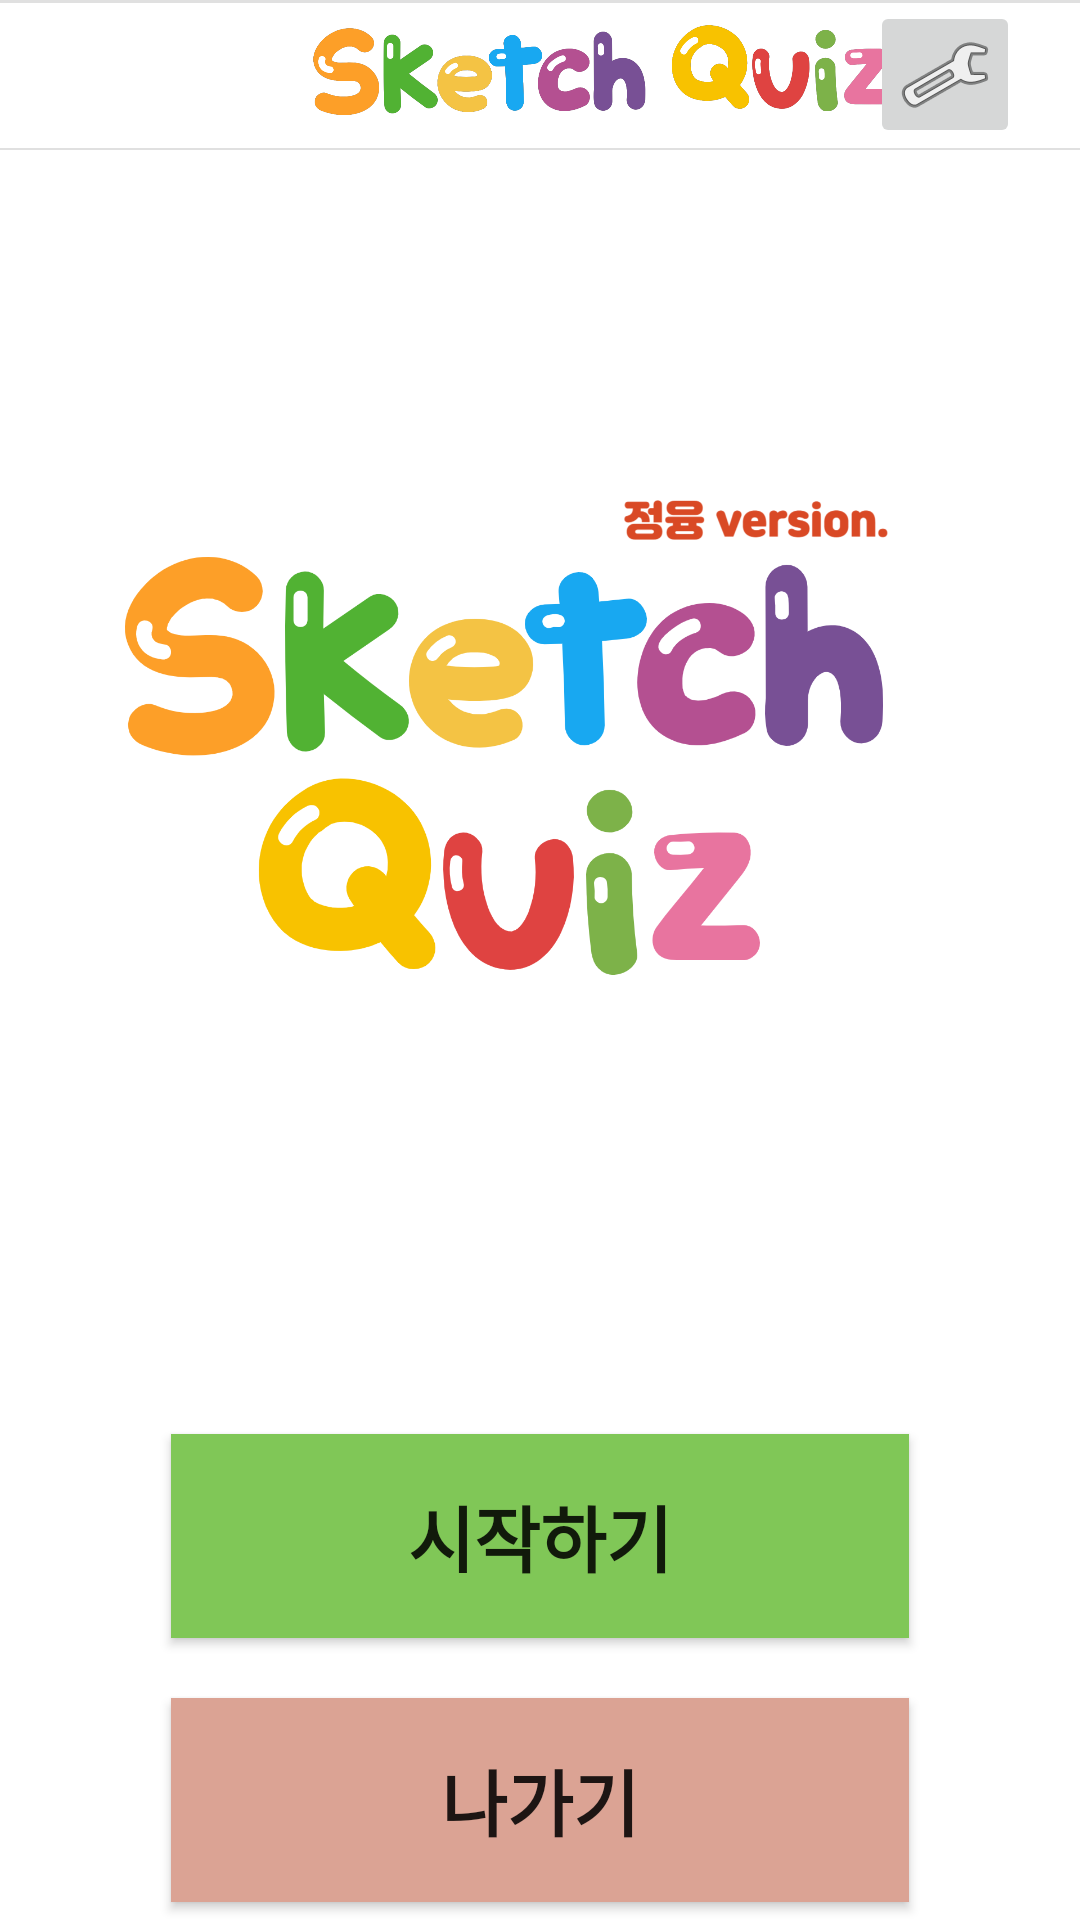

Screen size 1080x1920. Icon name, then its box in pixels as region(x1, y1, x2, y2):
manage: region(870, 1, 1020, 130)
